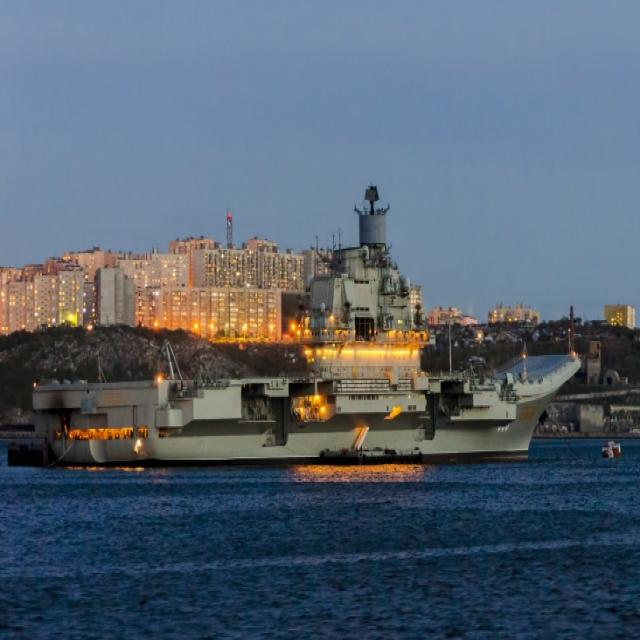Portanaves: (18, 172, 590, 468)
